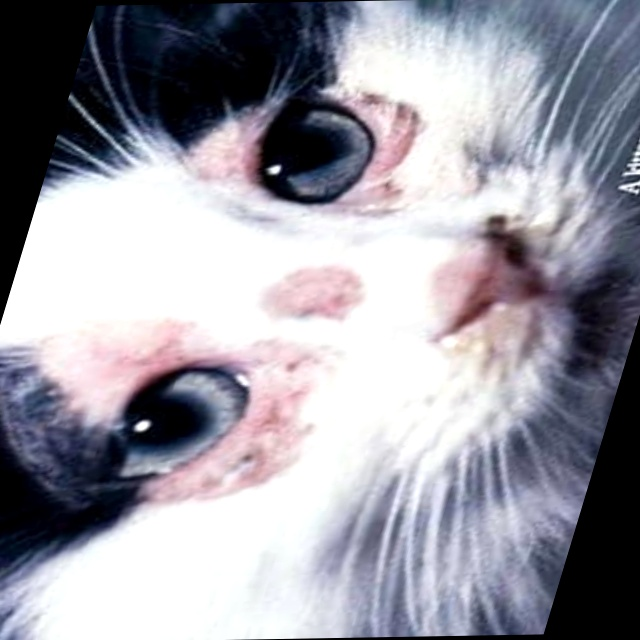ringworm: (153, 354, 341, 508), (339, 103, 430, 199), (261, 265, 375, 309)
